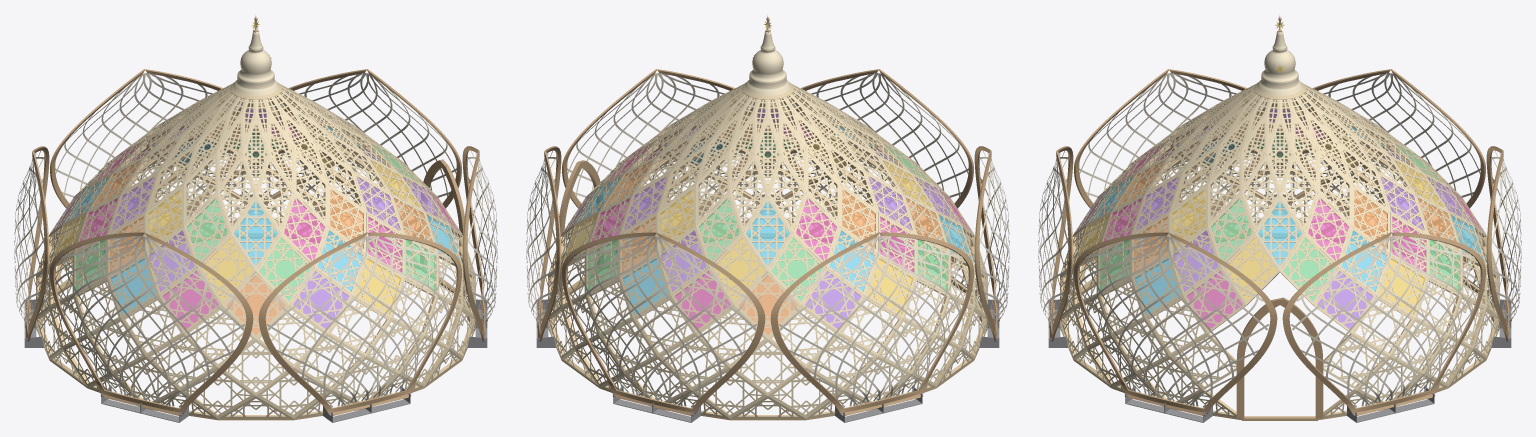
File: temple.glb
3 renders of one model, left to right at view 1: azimuth 30°, elevation 25°; view 2: azimuth 150°, elevation 25°; view 3: azimuth 270°, elevation 25°, orthographic.
Parts seen in each view (by area): view 1: PETAL_A05_body, PETAL_A04_body, CLAD_D, CLAD_C, GLASS_F, CLAD_E, CLAD_B, GLASS_D, CLAD_H, GLASS_E, CLAD_G, CLAD_F (+21 smaller); view 2: PETAL_A02_body, PETAL_A03_body, CLAD_D, CLAD_C, GLASS_F, CLAD_E, CLAD_B, GLASS_D, CLAD_H, GLASS_E, CLAD_G, CLAD_F (+21 smaller); view 3: PETAL_A01_body, PETAL_A06_body, CLAD_D, CLAD_C, CLAD_E, CLAD_B, GLASS_D, GLASS_F, GLASS_E, CLAD_H, CLAD_F, CLAD_G (+21 smaller).
Boxes of the visible parts, bbox=[...] form: PETAL_A05_body: bbox=[258, 232, 461, 415]; PETAL_A04_body: bbox=[50, 232, 253, 415]; CLAD_D: bbox=[87, 108, 424, 270]; CLAD_C: bbox=[112, 99, 399, 232]; GLASS_F: bbox=[52, 132, 459, 334]; CLAD_E: bbox=[62, 120, 449, 304]; CLAD_B: bbox=[146, 90, 365, 194]; GLASS_D: bbox=[93, 108, 418, 265]; CLAD_H: bbox=[36, 167, 475, 395]; GLASS_E: bbox=[66, 119, 445, 301]; CLAD_G: bbox=[36, 150, 475, 367]; CLAD_F: bbox=[49, 133, 462, 338]; PETAL_A02_body: bbox=[562, 232, 765, 415]; PETAL_A03_body: bbox=[770, 232, 973, 415]; CLAD_D: bbox=[599, 108, 936, 270]; CLAD_C: bbox=[624, 99, 911, 232]; GLASS_F: bbox=[564, 132, 971, 334]; CLAD_E: bbox=[574, 120, 961, 304]; CLAD_B: bbox=[658, 90, 877, 194]; GLASS_D: bbox=[605, 108, 930, 265]; CLAD_H: bbox=[548, 167, 987, 395]; GLASS_E: bbox=[578, 119, 957, 301]; CLAD_G: bbox=[548, 150, 987, 367]; CLAD_F: bbox=[561, 133, 974, 338]; PETAL_A01_body: bbox=[1282, 232, 1485, 415]; PETAL_A06_body: bbox=[1074, 232, 1277, 415]; CLAD_D: bbox=[1111, 108, 1448, 270]; CLAD_C: bbox=[1136, 99, 1423, 232]; CLAD_E: bbox=[1086, 120, 1473, 304]; CLAD_B: bbox=[1170, 90, 1389, 194]; GLASS_D: bbox=[1117, 108, 1442, 265]; GLASS_F: bbox=[1076, 132, 1483, 328]; GLASS_E: bbox=[1090, 119, 1469, 300]; CLAD_H: bbox=[1060, 167, 1499, 389]; CLAD_F: bbox=[1073, 133, 1486, 333]; CLAD_G: bbox=[1060, 150, 1499, 356].
Size of the model in its own units: 9.44 by 6.84 by 9.51.
